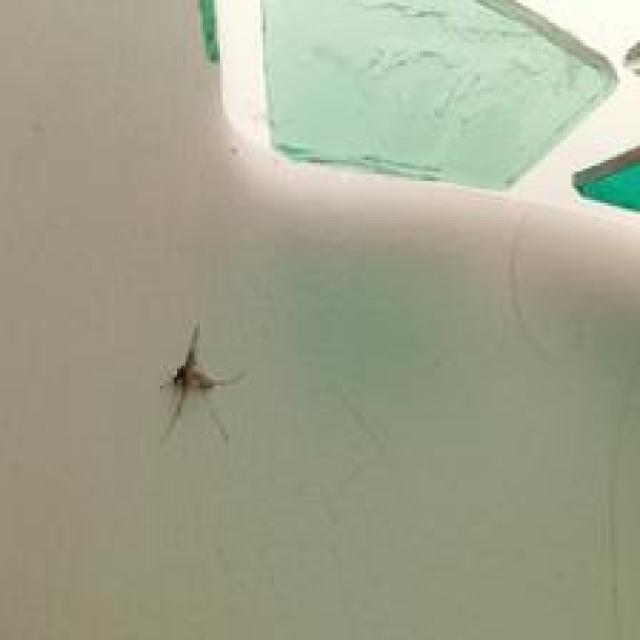Culex: (159, 322, 247, 444)
